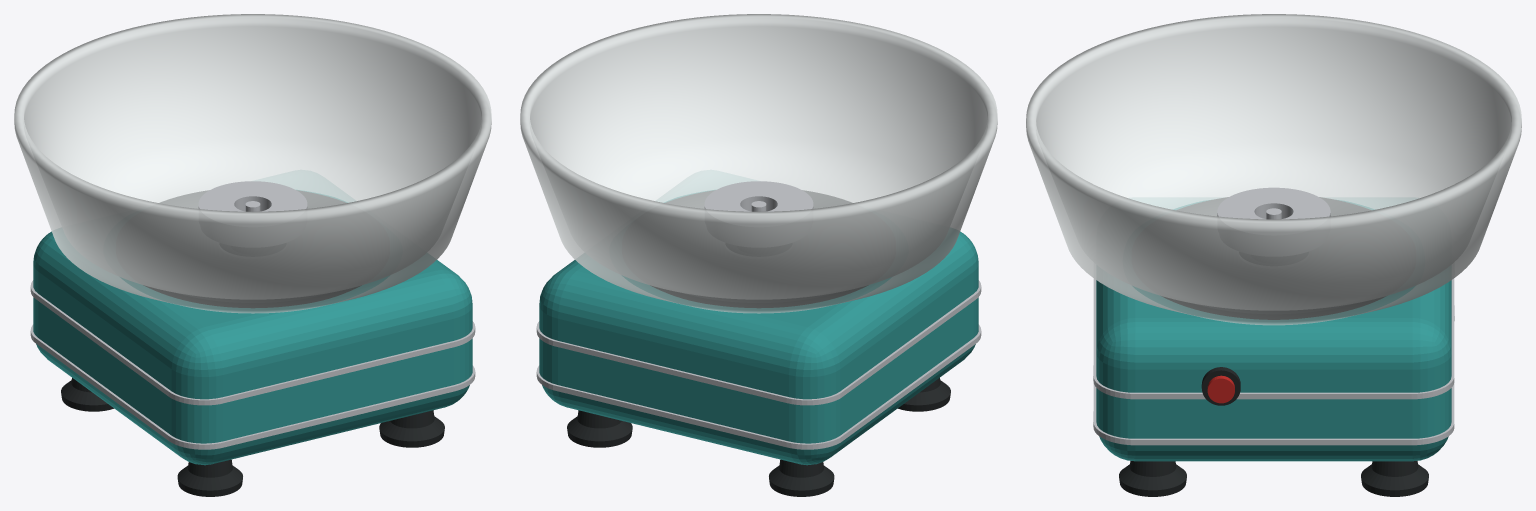
Rendered from A-NEW-20261026-COTTON-CANDY-MACHINE-001_LOD0_R3.fbx.
3 views of the same model, side by side, from view 1: azimuth 30°, elevation 25°; view 2: azimuth 150°, elevation 25°; view 3: azimuth 270°, elevation 25° (orthographic). The views are drawn at different scales.
Visible parts, largest first — view 1: open milky bowl with complete inner wall, rounded housing, continuous silver band 0.037, continuous silver band 0.063, extractor rim and circular well, bowl support seat, splayed suction style foot -0.062 -0.062, splayed suction style foot 0.062 -0.062, splayed suction style foot -0.062 0.062; view 2: open milky bowl with complete inner wall, rounded housing, continuous silver band 0.037, continuous silver band 0.063, extractor rim and circular well, bowl support seat, splayed suction style foot -0.062 0.062, splayed suction style foot 0.062 0.062, splayed suction style foot -0.062 -0.062; view 3: open milky bowl with complete inner wall, rounded housing, continuous silver band 0.063, continuous silver band 0.037, extractor rim and circular well, bowl support seat, splayed suction style foot 0.062 -0.062, splayed suction style foot 0.062 0.062, right switch mounting rim, red rounded rocker cue.
Boxes of the visible parts, left/top/right/bottom form: open milky bowl with complete inner wall: left=14, top=14, right=491, bottom=313; rounded housing: left=33, top=189, right=472, bottom=465; continuous silver band 0.037: left=30, top=324, right=475, bottom=449; continuous silver band 0.063: left=30, top=280, right=475, bottom=405; extractor rim and circular well: left=198, top=181, right=307, bottom=211; bowl support seat: left=144, top=190, right=359, bottom=307; splayed suction style foot -0.062 -0.062: left=177, top=459, right=242, bottom=496; splayed suction style foot 0.062 -0.062: left=379, top=410, right=444, bottom=447; splayed suction style foot -0.062 0.062: left=61, top=378, right=113, bottom=411; open milky bowl with complete inner wall: left=520, top=14, right=997, bottom=313; rounded housing: left=539, top=189, right=978, bottom=465; continuous silver band 0.037: left=536, top=324, right=981, bottom=449; continuous silver band 0.063: left=536, top=280, right=981, bottom=405; extractor rim and circular well: left=704, top=181, right=813, bottom=211; bowl support seat: left=652, top=190, right=867, bottom=307; splayed suction style foot -0.062 0.062: left=769, top=459, right=834, bottom=496; splayed suction style foot 0.062 0.062: left=567, top=410, right=632, bottom=447; splayed suction style foot -0.062 -0.062: left=898, top=378, right=950, bottom=411; open milky bowl with complete inner wall: left=1026, top=14, right=1521, bottom=325; rounded housing: left=1096, top=199, right=1451, bottom=461; continuous silver band 0.063: left=1093, top=278, right=1454, bottom=399; continuous silver band 0.037: left=1093, top=305, right=1454, bottom=445; extractor rim and circular well: left=1217, top=187, right=1330, bottom=219; bowl support seat: left=1162, top=197, right=1385, bottom=319; splayed suction style foot 0.062 -0.062: left=1119, top=461, right=1186, bottom=496; splayed suction style foot 0.062 0.062: left=1361, top=461, right=1428, bottom=496; right switch mounting rim: left=1201, top=367, right=1240, bottom=405; red rounded rocker cue: left=1207, top=375, right=1234, bottom=403.
Size of the model in its own units: 25.4 by 17.7 by 25.4.
